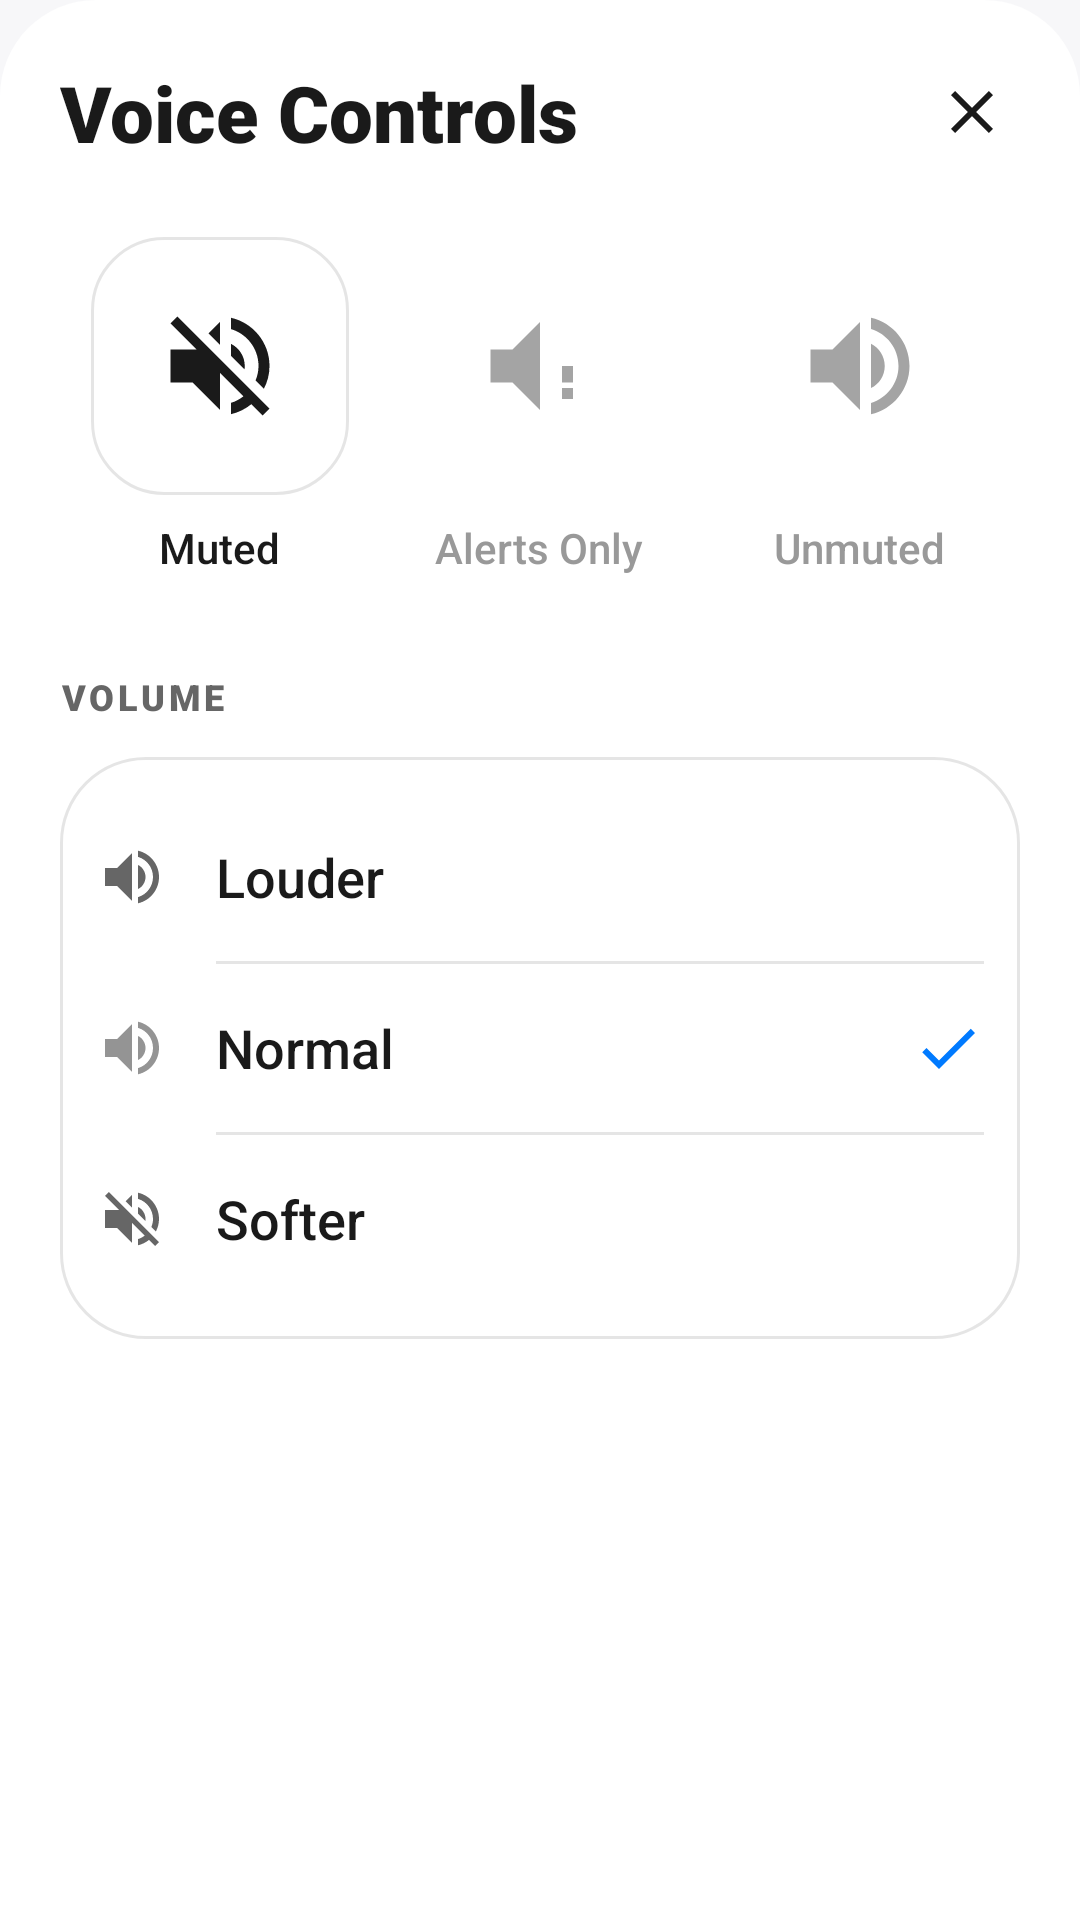

Icons on this 1080w x 1920h Android screen, each with the point to tap as [x,y]:
check: [948,1049]
close: [972,112]
